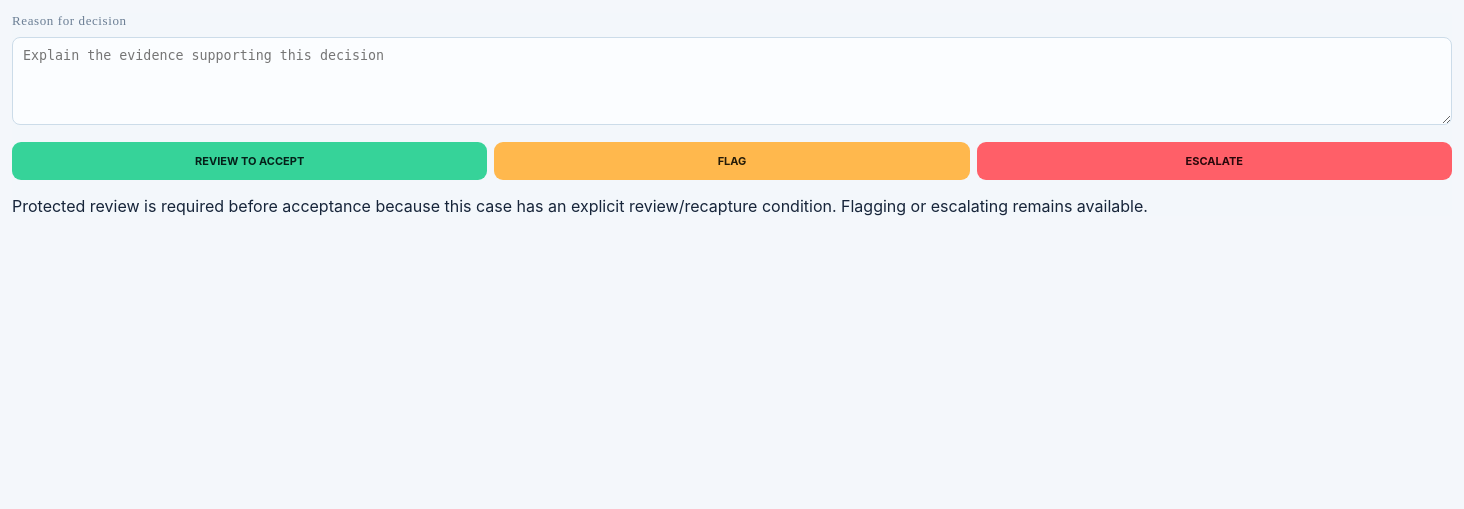
Test: explicit recapture/review cases still use the protected supervisor workflow
Click the button "REVIEW TO ACCEPT" at {"x": 250, "y": 161}, box [12,142,487,180]
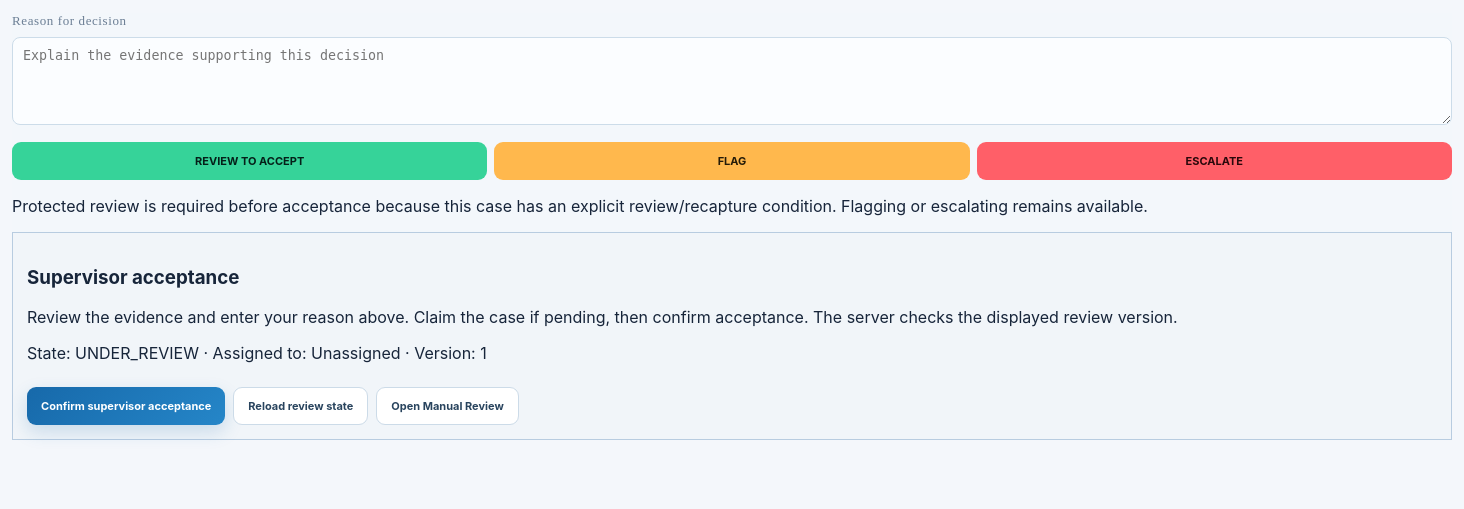
Check: the button "Confirm supervisor acceptance" is shown, box [27,387,225,425]
Type "Checked original and comparison." into the text box labelled "Reason for decision" at {"x": 732, "y": 81}, box [12,37,1452,125]
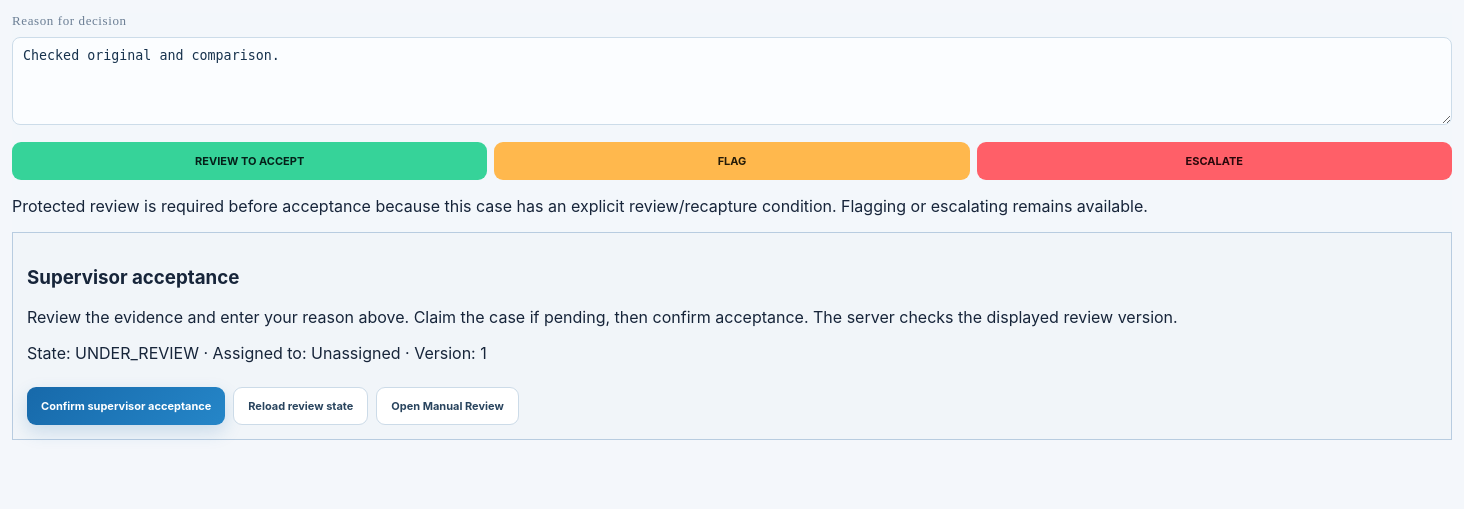
Click the button "Confirm supervisor acceptance" at {"x": 126, "y": 406}, box [27,387,225,425]
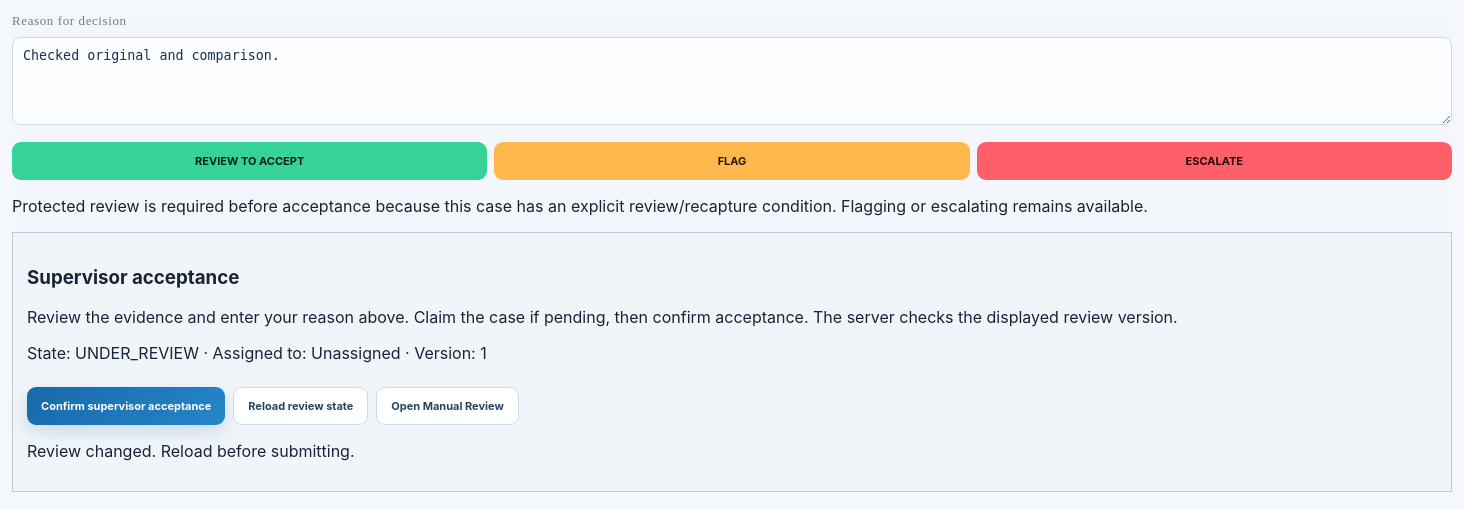
Check: the button "Reload review state" is shown, box [233,387,368,425]
Check: the message "Review changed. Reload before submitting." is shown, box [27,441,354,461]
